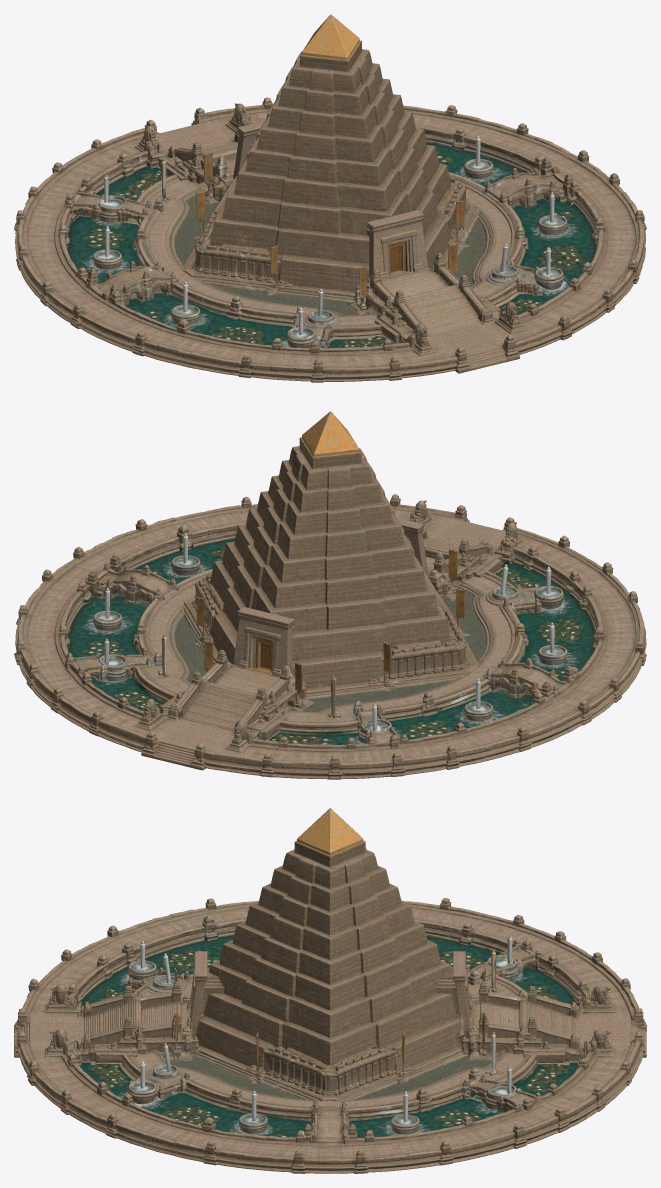
Rendered from pyramid_large.glb.
3 views of the same model, one above another, from view 1: azimuth 30°, elevation 25°; view 2: azimuth 150°, elevation 25°; view 3: azimuth 270°, elevation 25° (orthographic).
Size of the model in its own units: 1.89 by 0.779 by 1.9.
1 material, 1 textured.
